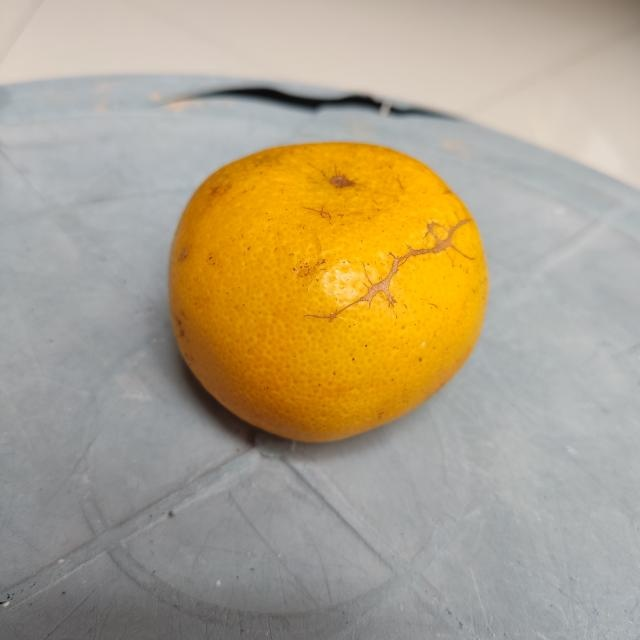agrume: (168, 140, 490, 446)
